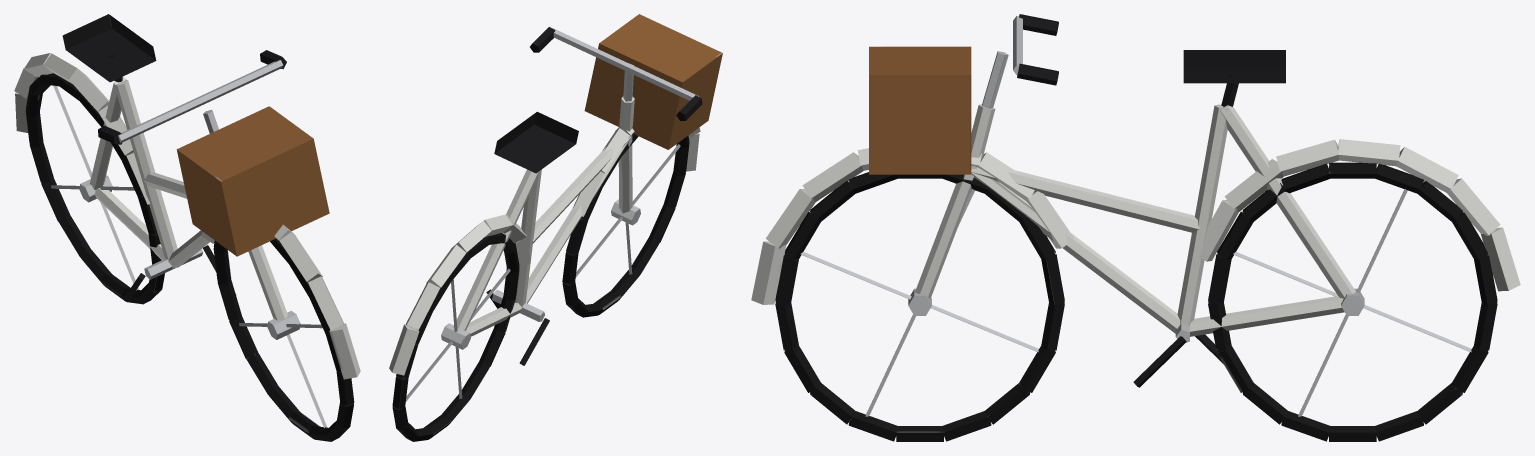
The model's file is kolo_7c9fe836.glb.
The picture shows the model from 3 angles, left to right: view 1: azimuth 30°, elevation 25°; view 2: azimuth 150°, elevation 25°; view 3: azimuth 270°, elevation 25°; orthographic projection. The views are drawn at different scales.
Visible parts, largest first — view 1: dum; view 2: dum; view 3: dum.
Boxes of the visible parts, x1,y1,x2,y2 form: dum: (14,14,360,441); dum: (389,14,722,441); dum: (751,14,1520,441).
Size of the model in its own units: 0.5867 by 1.09 by 1.95.
Materials: 1 (1 with a texture image).
